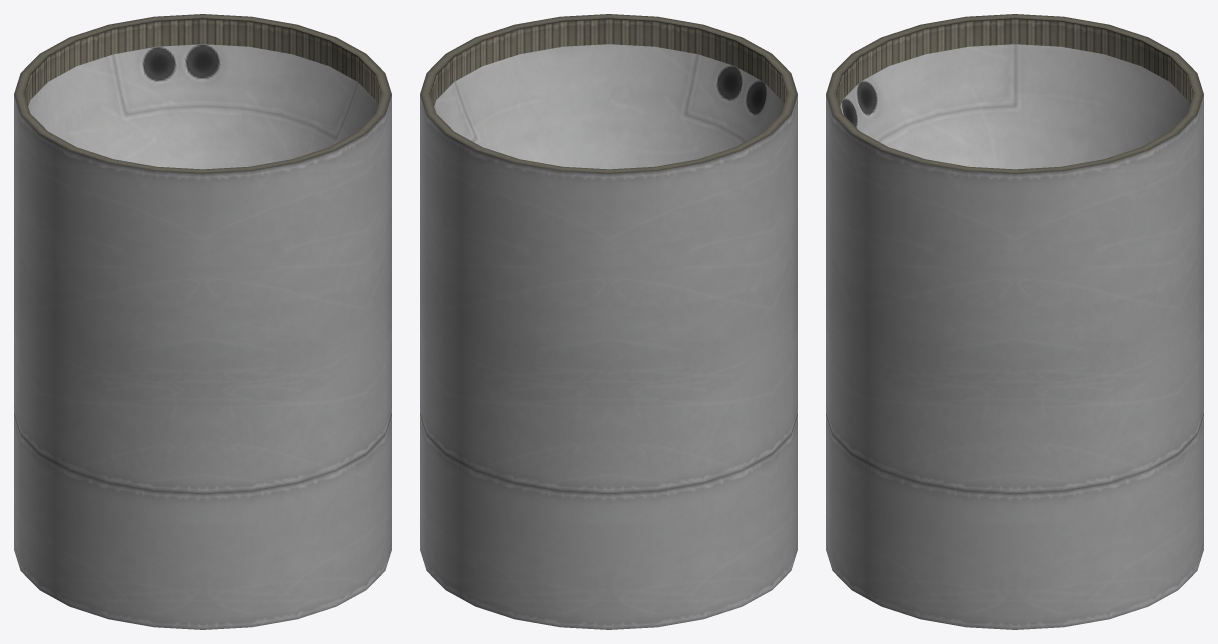
Rendered from alnair_us_engine_s0p5_1.obj.
3 renders of one model, left to right at view 1: azimuth 30°, elevation 25°; view 2: azimuth 150°, elevation 25°; view 3: azimuth 270°, elevation 25°, orthographic.
Parts seen in each view (by area): view 1: fairing1, mesh1; view 2: fairing1, mesh1; view 3: fairing1, mesh1.
Part boxes in pixels (x1,y1,x2,y2): fairing1: (14,14,391,629); mesh1: (28,44,377,169); fairing1: (420,14,797,629); mesh1: (434,44,783,169); fairing1: (826,14,1203,629); mesh1: (840,44,1189,169).
Size of the model in its own units: 0.9375 by 1.25 by 0.9375.
2 materials, 2 textured.
